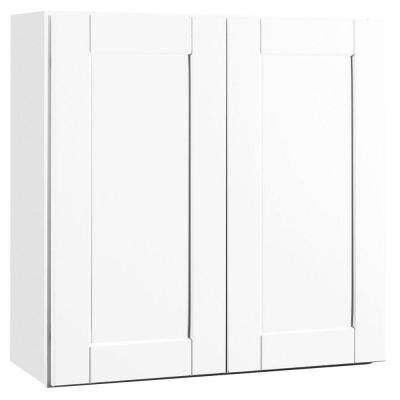cabinet_door: (49, 16, 221, 381), (227, 17, 368, 371)
